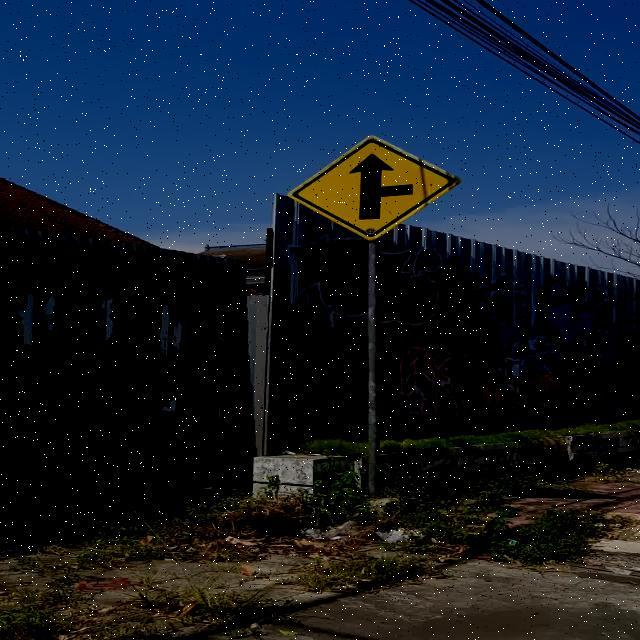Persimpangan 3 Prioritas Kanan: (286, 134, 462, 240)
